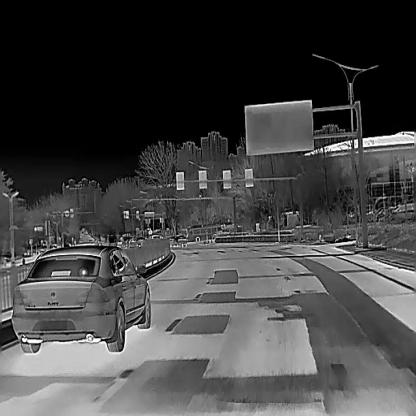bus: (186, 223, 225, 241)
car: (10, 243, 151, 351), (171, 232, 188, 247)
